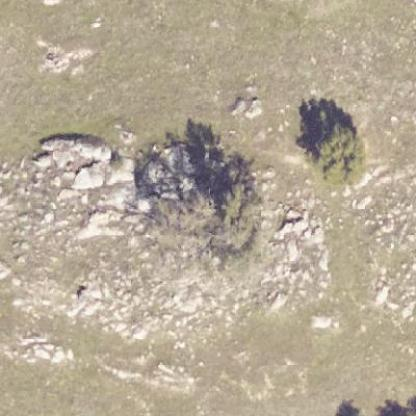tree-top: (136, 181, 270, 291), (305, 125, 374, 192)
